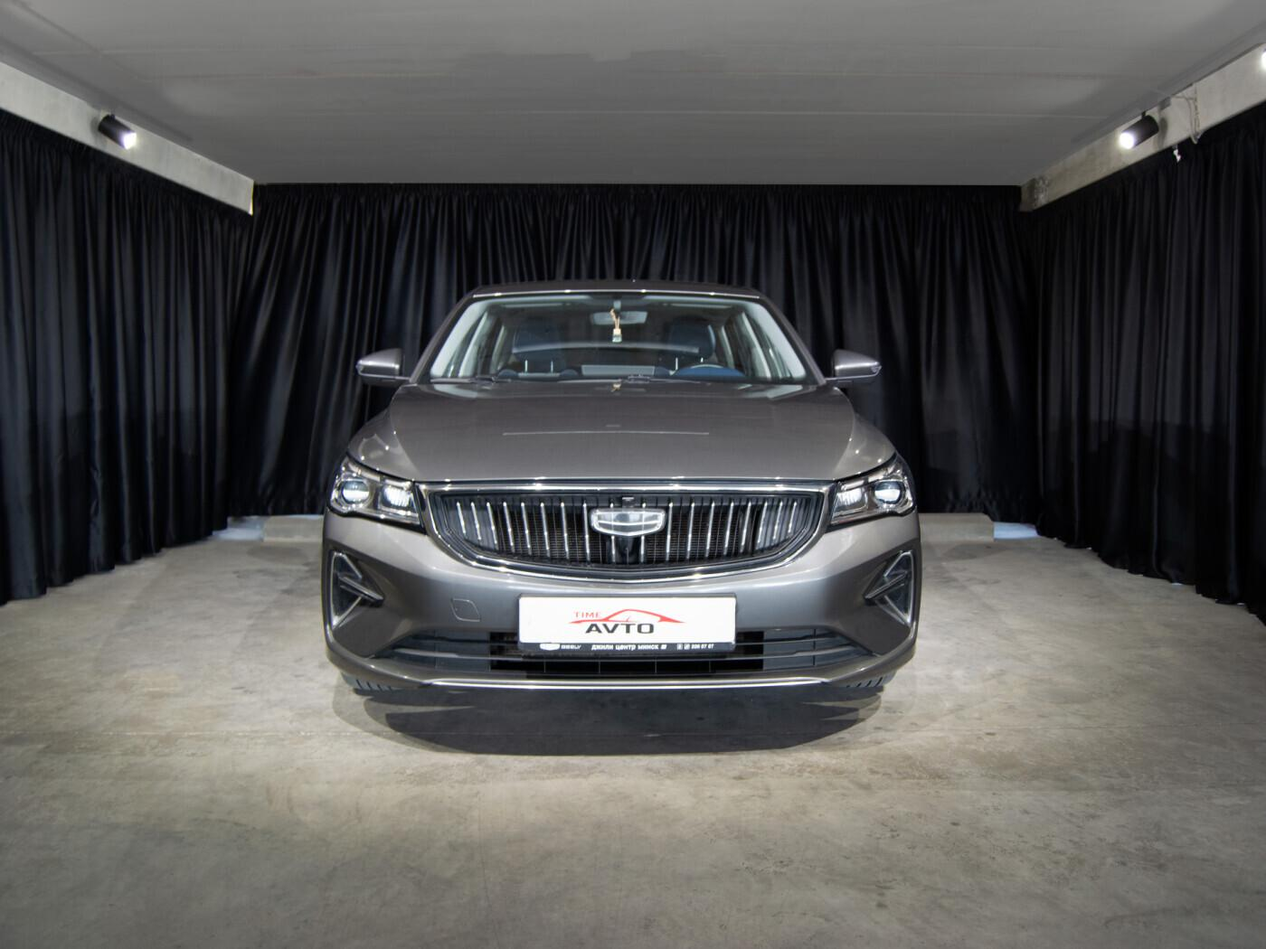Emgrand_2021: (302, 278, 921, 720)
